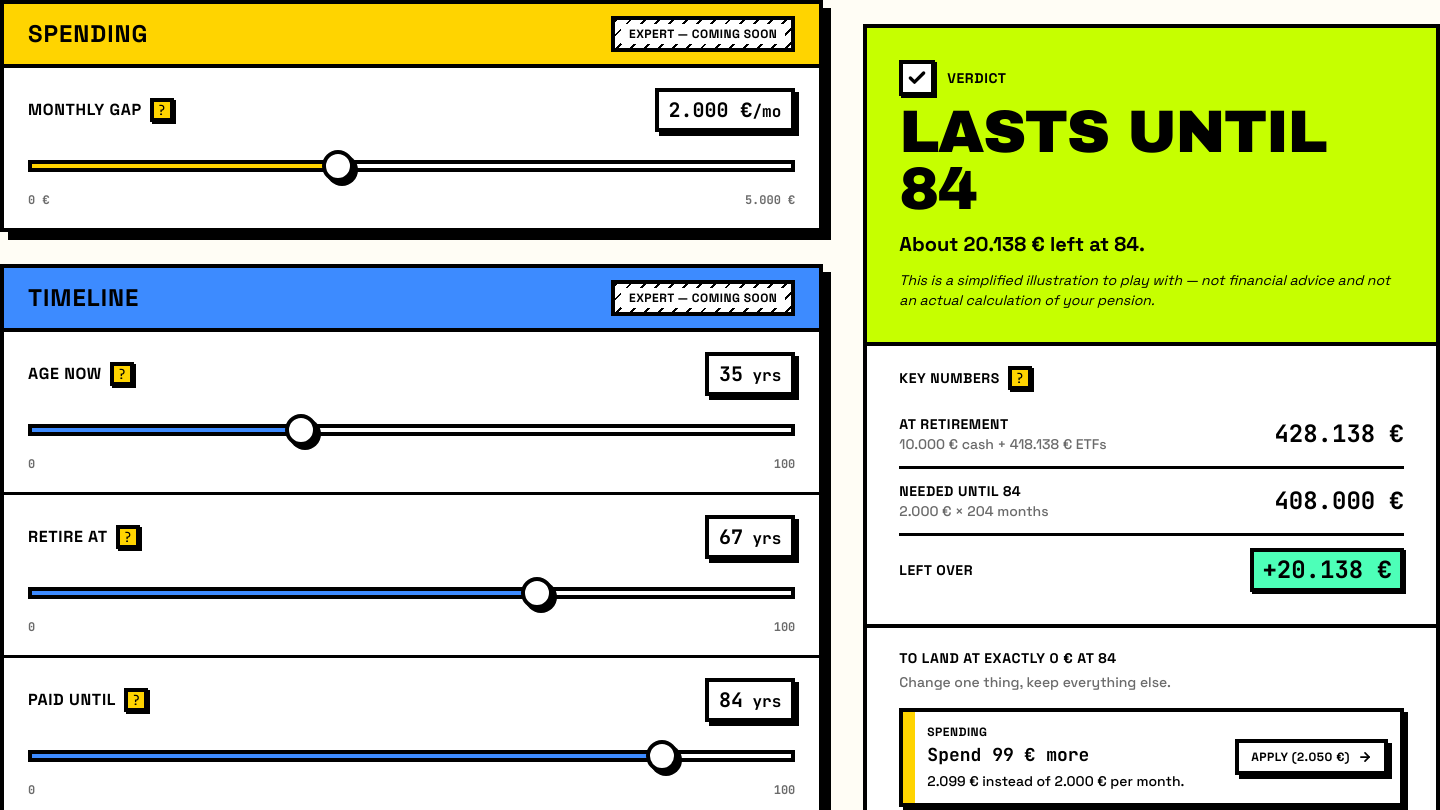
Test: Calculator UI › opens the help popover with the long description
Click the button named "Explain paid until": x=136, y=700 [124,688,148,712]
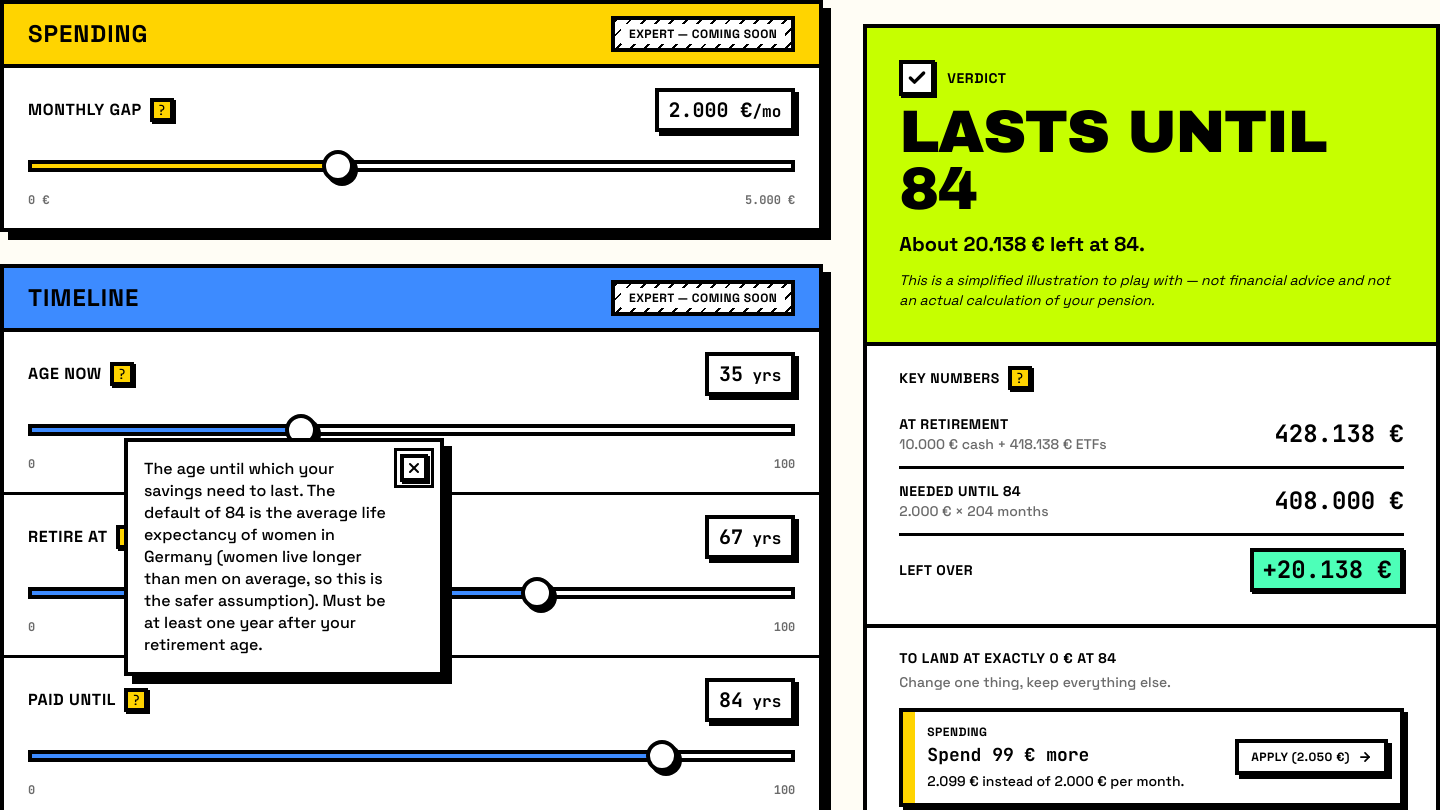
expect the text "average life expectancy of women in Germany" is shown: met, box [144,458,386,655]
Press Escape
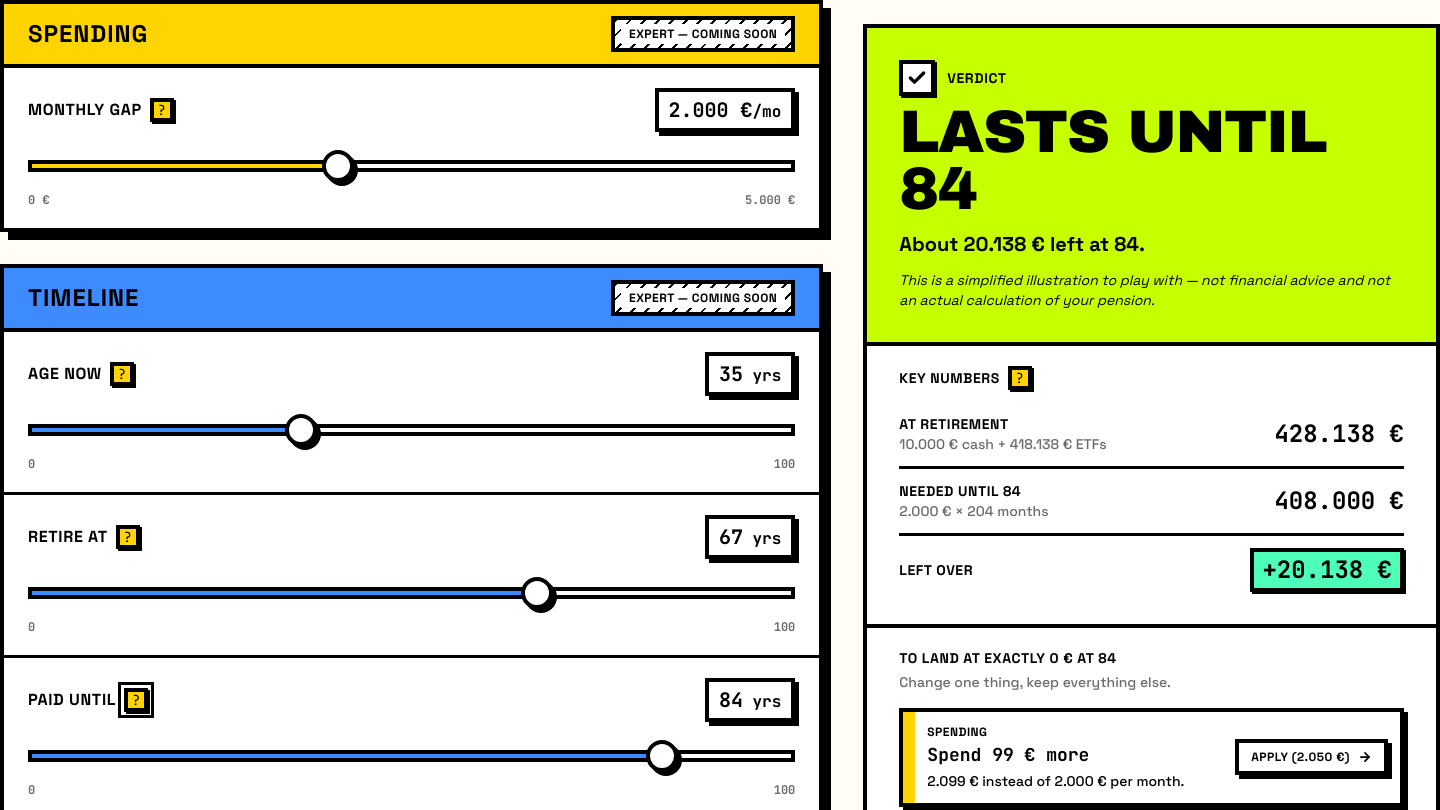
expect the text "average life expectancy of women in Germany" is gone: met
